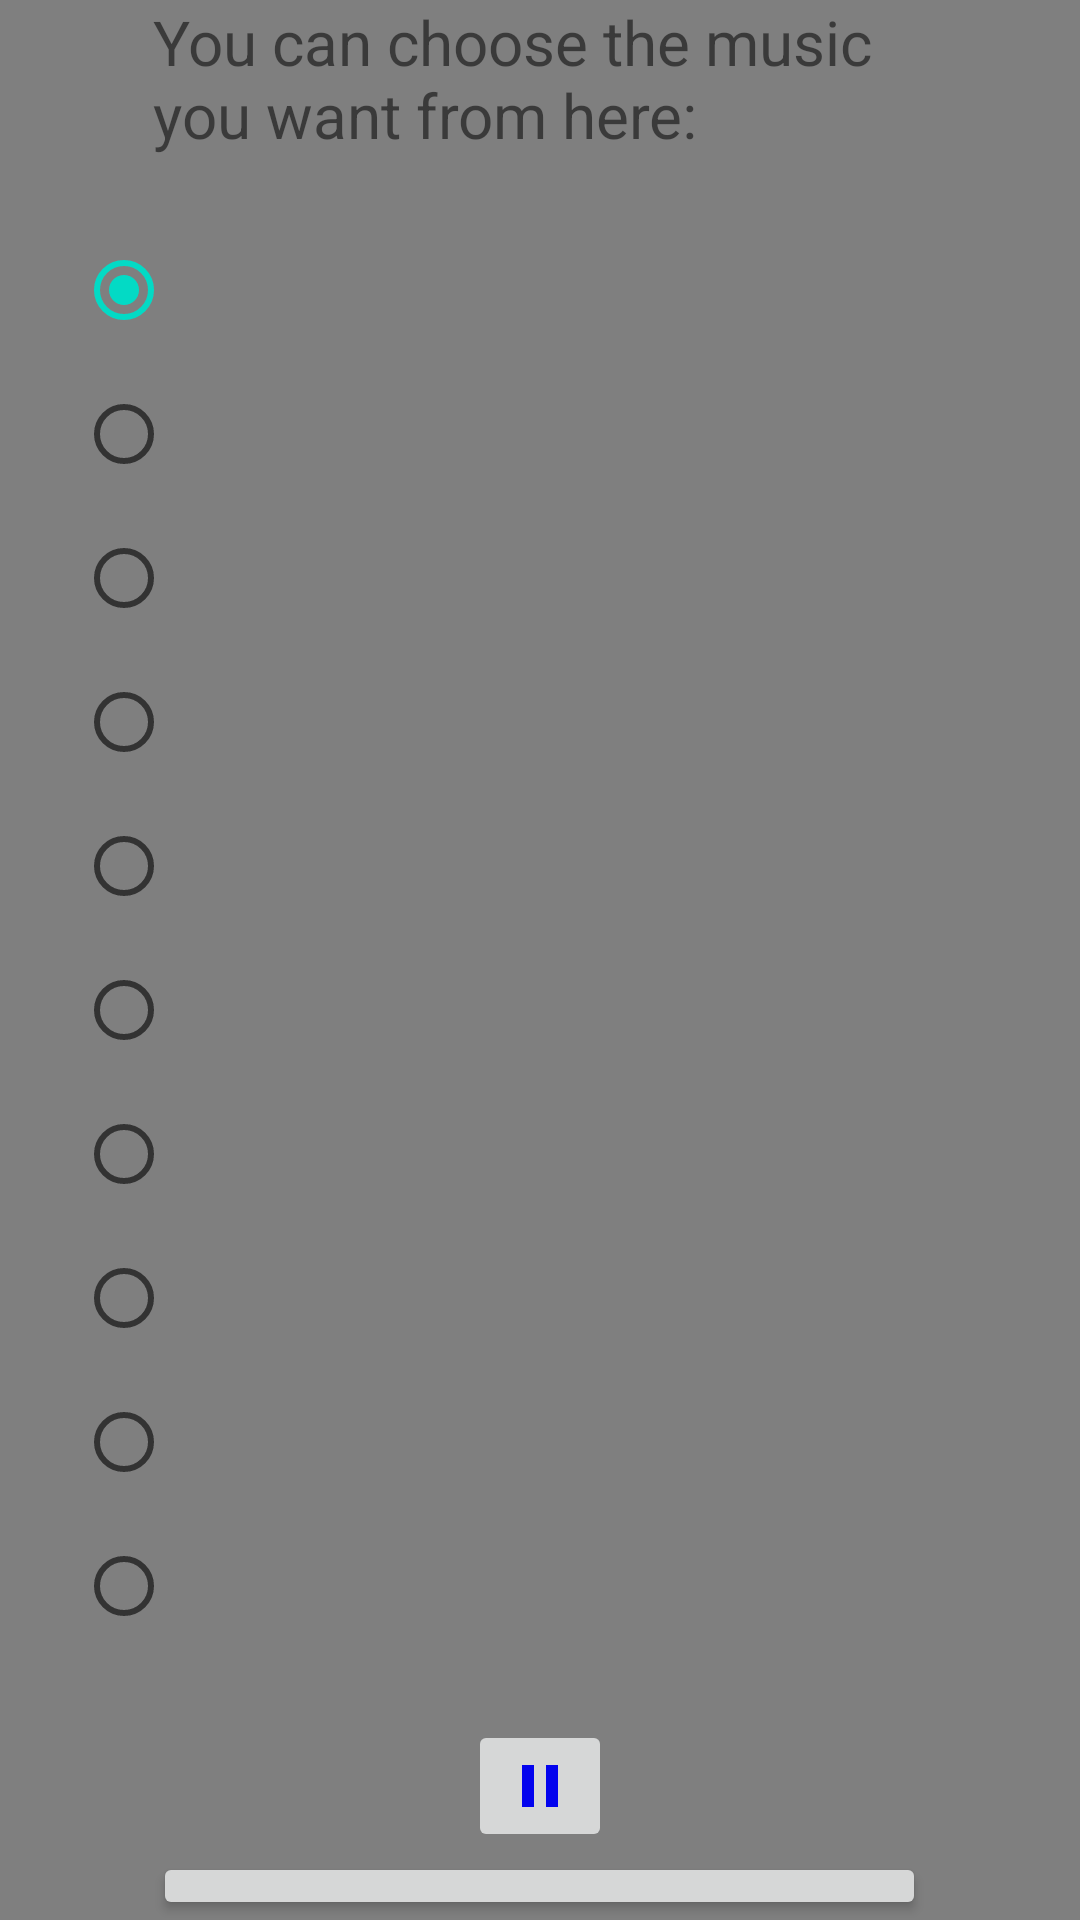

Icons on this 1080x1920 Android screen, each with its box as (x1, y1, x2, y2):
pause music: (480, 1738, 600, 1834)
